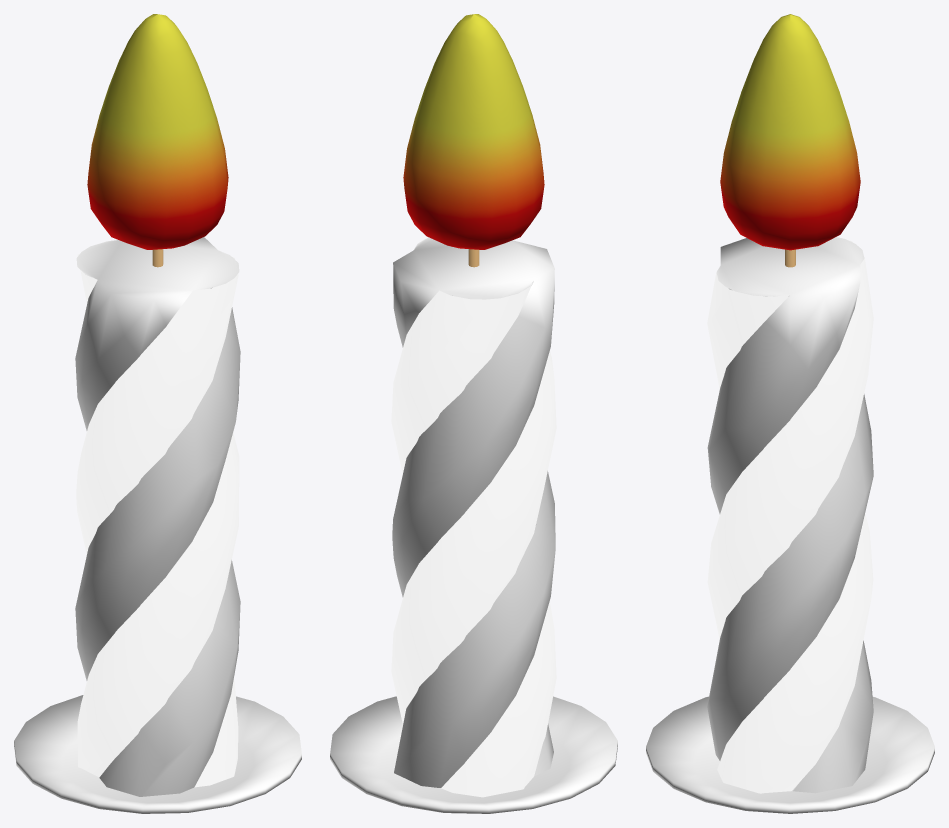
The model's file is candle_straight_0.glb.
The picture shows the model from 3 angles, left to right: view 1: azimuth 30°, elevation 25°; view 2: azimuth 150°, elevation 25°; view 3: azimuth 270°, elevation 25°; orthographic projection.
Visible parts, largest first — view 1: color_candle, fire_candle; view 2: color_candle, fire_candle; view 3: color_candle, fire_candle.
Boxes of the visible parts, box(x1,y1,x2,y2) form: color_candle: box(14, 237, 301, 813); fire_candle: box(87, 14, 228, 249); color_candle: box(330, 237, 617, 813); fire_candle: box(403, 14, 544, 249); color_candle: box(646, 237, 934, 813); fire_candle: box(720, 14, 860, 250).
Size of the model in its own units: 0.3228 by 0.9288 by 0.3228.
1 material, 1 textured.
